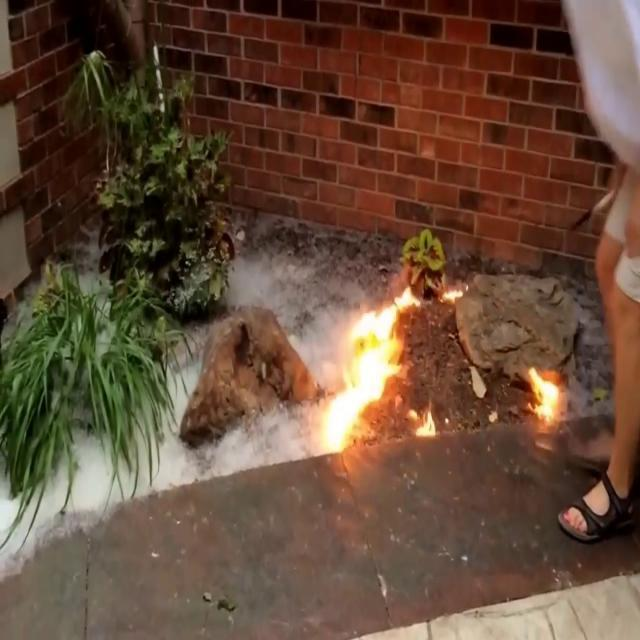Fire: (312, 224, 460, 452), (521, 363, 565, 424)
